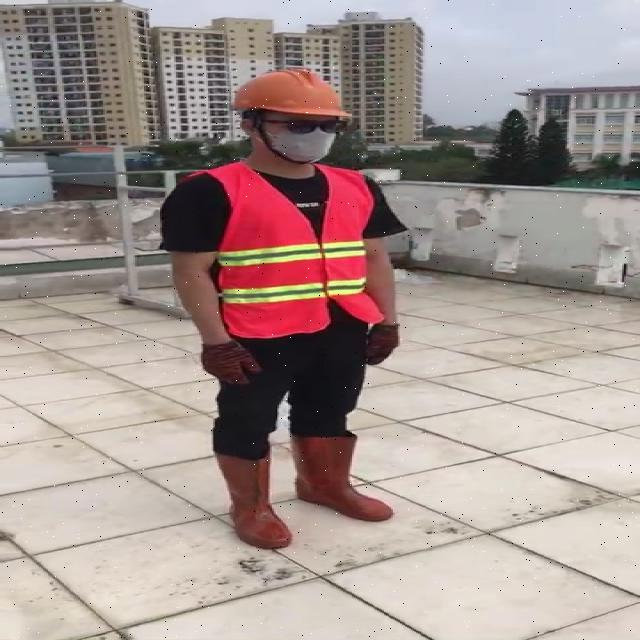Hard_hat: (225, 65, 354, 130)
Person: (152, 56, 408, 637)
Vest: (210, 159, 372, 335)
